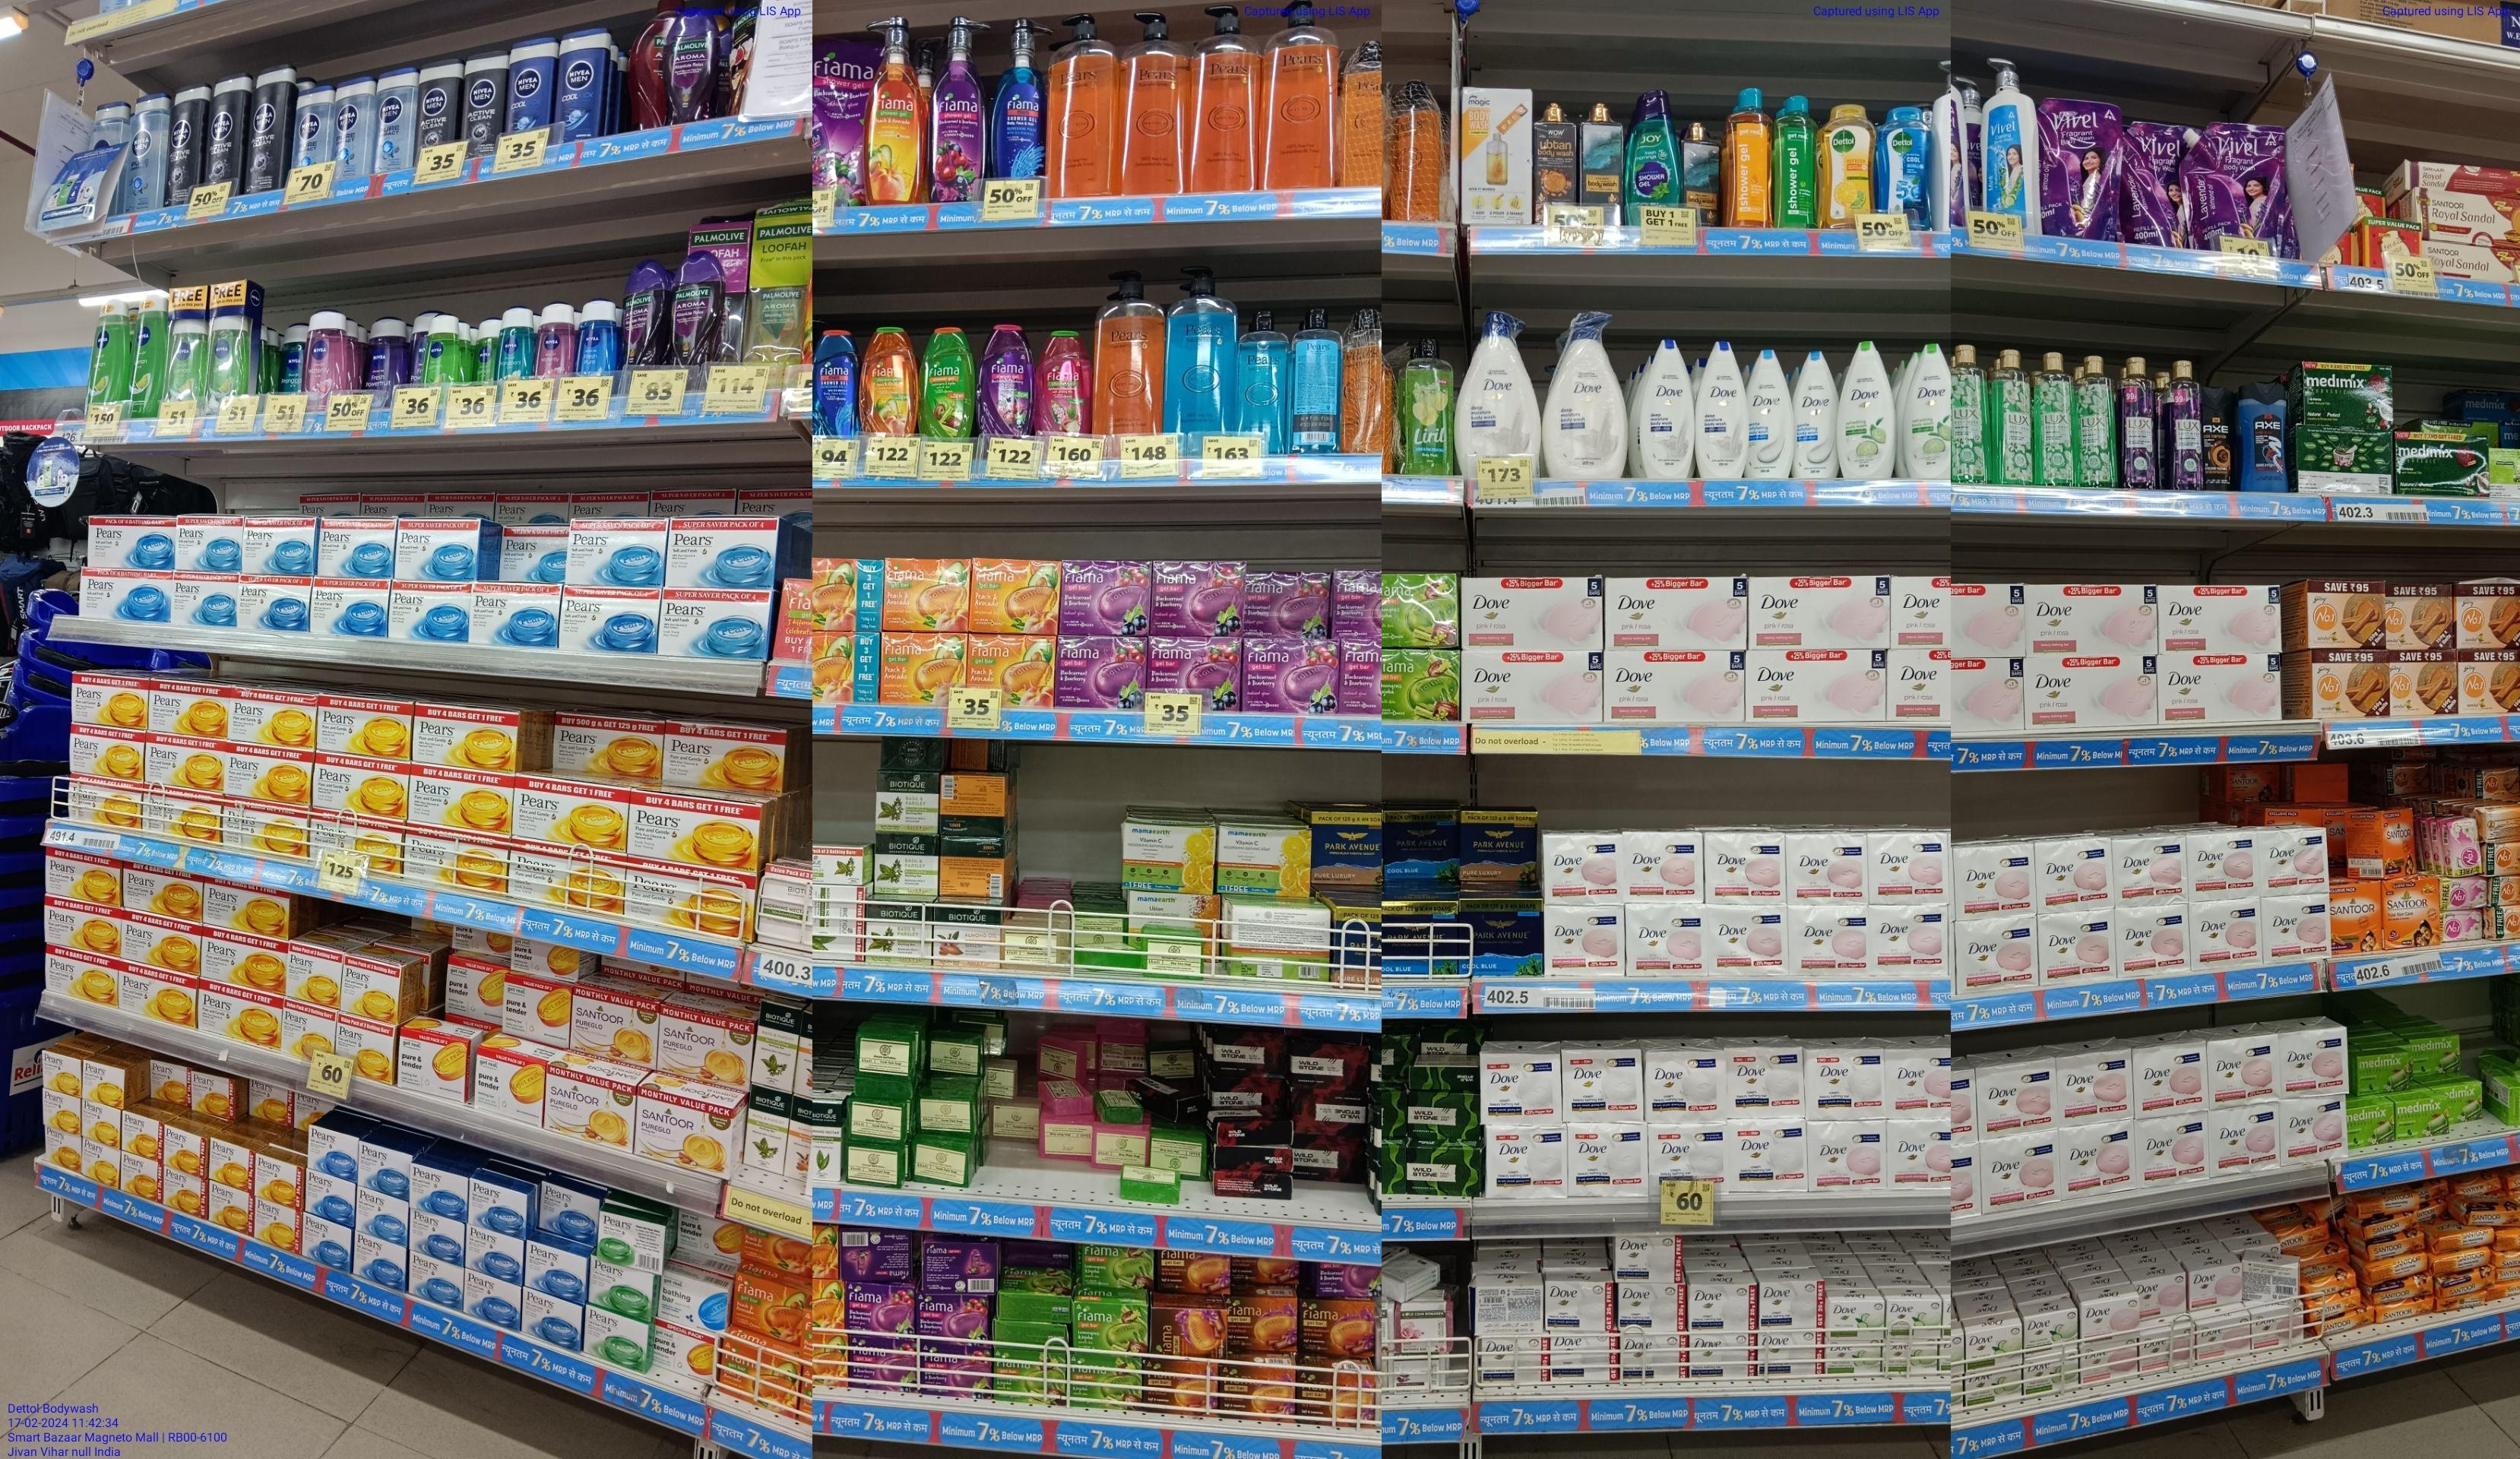Dettol_Bodywash_Cool: (1881, 102, 1928, 226)
Dettol_Bodywash_Refresh: (1817, 101, 1874, 226)
Dove_Deep_Moisture_Body_Wash_250ML: (1638, 332, 1693, 479), (1695, 340, 1744, 476)
Dove_Gentle_Exfoliating_Body_Wash_250ML: (1747, 344, 1796, 478), (1796, 347, 1841, 485)
Dove_Refreshing_Body_Wash_250ML: (1844, 339, 1898, 481), (1907, 342, 1950, 479)
Fiama_Shower_Gel_Lemongrass_and_Jojoba_250ML: (924, 323, 976, 438)
Fiama_Shower_Gel_Patchouli_and_Macadamia_250ML: (1039, 330, 1091, 434)
Fiama_Shower_Gel_Peach_and_Avocado_250ML: (867, 327, 917, 438)
Joy_Shower_Gel_Mint_and_Eucalyptus_250ML: (1626, 89, 1674, 208)
Liril_Cooling_Mint_Body_Wash_250ML: (1405, 332, 1455, 474)
Lux_Black_Orchid_Scent_and_Juniper_Oil_Body_Wash_245ML: (2155, 351, 2204, 488), (2119, 356, 2155, 493)
Lux_Body_Wash_Skin_Detox_Freesia_Scent_and_Alove_Vera_245ML: (2032, 347, 2074, 485), (2079, 351, 2115, 488), (1954, 342, 1989, 485), (1992, 344, 2025, 486)
Nivea_Shower_Gel_Lemon_and_Oil_250ML: (92, 300, 132, 406), (137, 295, 165, 415)
Nivea_Shower_Gel_Waterlily_and_Oil_250ML: (307, 311, 340, 413)
Palmolive_Aroma_Relax_250ML: (672, 252, 712, 373), (627, 261, 669, 370)
Pears_Pure_Glycerin_and_Mint_Extracts_Body_Wash_250ML: (1237, 307, 1287, 452)
